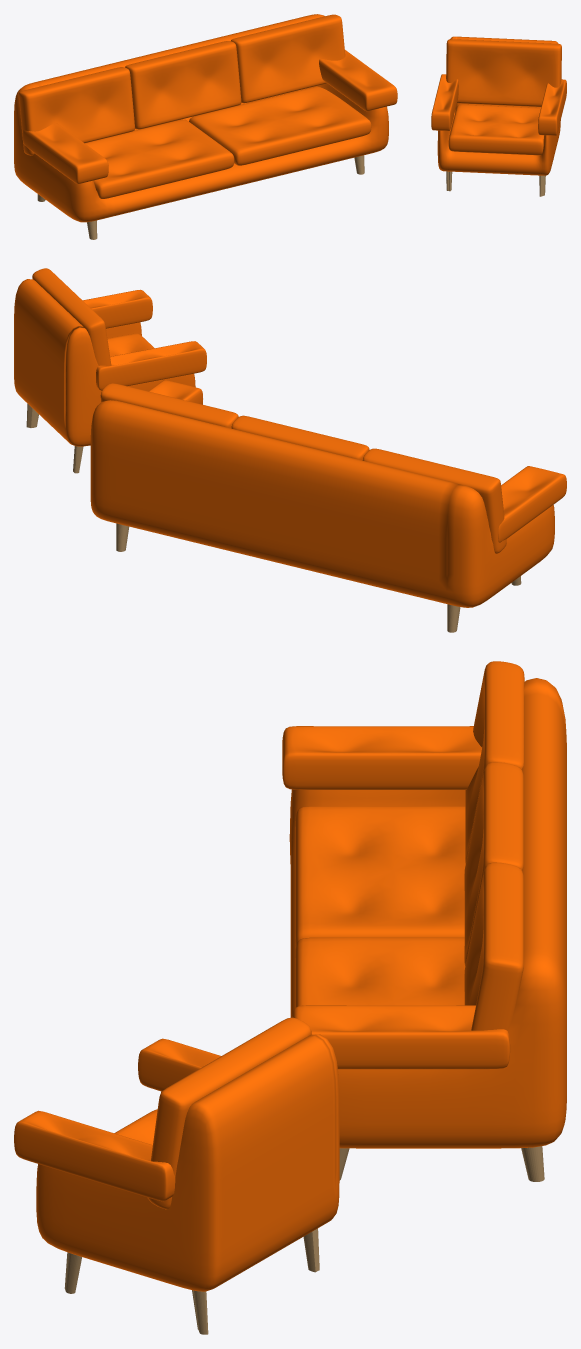
The model's file is couch.fbx.
The picture shows the model from 3 angles, top to bottom: view 1: azimuth 30°, elevation 25°; view 2: azimuth 150°, elevation 25°; view 3: azimuth 270°, elevation 25°; orthographic projection. The views are drawn at different scales.
Visible parts, largest first — view 1: Cube.010, Plane, Plane.003, Plane.001, Plane.011, Plane.004, Plane.002, Plane.012, Cube.003, Plane.005, Plane.006, Plane.015 (+2 smaller); view 2: Cube.010, Cube.003, Plane.009, Plane.002, Plane.005, Plane.004, Plane.003, Plane.011, Plane.015, Plane.006, Plane.012, Cylinder.004; view 3: Cube.003, Cube.010, Plane.001, Plane.005, Plane, Plane.006, Plane.004, Plane.015, Plane.011, Plane.003, Plane.002, Plane.009 (+2 smaller).
Part boxes in pixels (x1,y1,x2,y2): Cube.010: [14, 14, 388, 222]; Plane: [189, 86, 371, 165]; Plane.003: [125, 41, 241, 129]; Plane.001: [85, 119, 234, 198]; Plane.011: [446, 39, 561, 106]; Plane.004: [231, 14, 345, 103]; Plane.002: [19, 67, 134, 155]; Plane.012: [448, 104, 543, 155]; Cube.003: [437, 36, 560, 175]; Plane.005: [22, 123, 108, 183]; Plane.006: [319, 49, 397, 111]; Plane.015: [538, 79, 566, 135]; Cube.010: [90, 400, 554, 607]; Cube.003: [14, 279, 195, 446]; Plane.009: [96, 341, 206, 390]; Plane.002: [362, 448, 506, 553]; Plane.005: [498, 466, 566, 542]; Plane.004: [100, 383, 238, 428]; Plane.003: [231, 415, 369, 460]; Plane.011: [32, 268, 111, 365]; Plane.015: [83, 289, 152, 328]; Plane.006: [148, 380, 202, 404]; Plane.012: [107, 333, 154, 356]; Cylinder.004: [116, 523, 521, 632]; Cube.003: [36, 1034, 339, 1291]; Cube.010: [289, 678, 566, 1148]; Plane.001: [295, 806, 465, 947]; Plane.005: [282, 726, 481, 789]; Plane: [295, 937, 465, 1007]; Plane.006: [292, 1005, 510, 1069]; Plane.004: [464, 862, 523, 1030]; Plane.015: [14, 1110, 175, 1201]; Plane.011: [148, 1017, 311, 1209]; Plane.003: [464, 762, 523, 965]; Plane.002: [465, 661, 524, 863]; Plane.009: [138, 1038, 220, 1091].
Size of the model in its own units: 1151 by 290 by 604.
